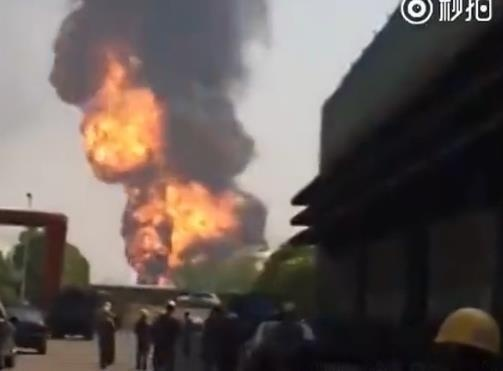fire: (119, 178, 246, 273), (81, 66, 162, 169)
